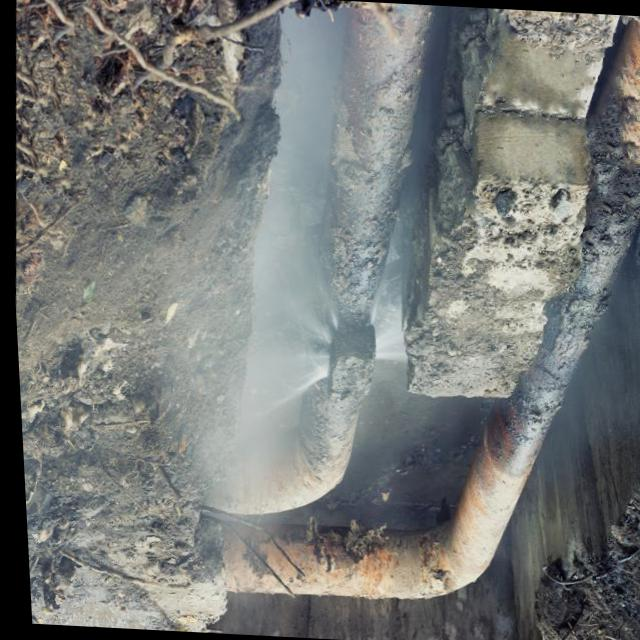leak: (144, 17, 343, 463), (361, 255, 418, 390)
